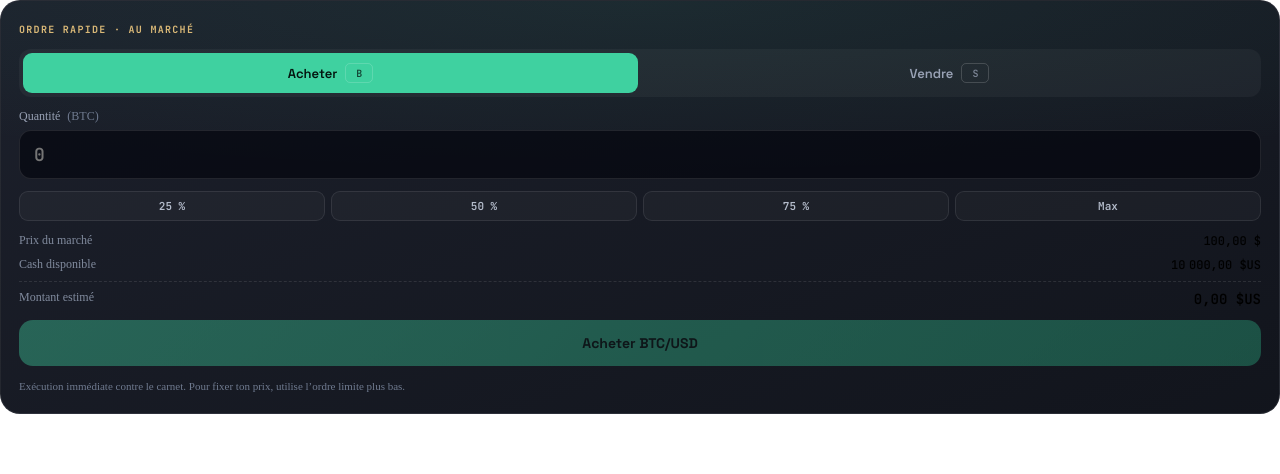
Test case: QuickTrade › affiche le refus du serveur
This screenshot has width=1280, height=474.
Type "1" into the number field. click: (640, 154)
box: [19,130,1261,179]
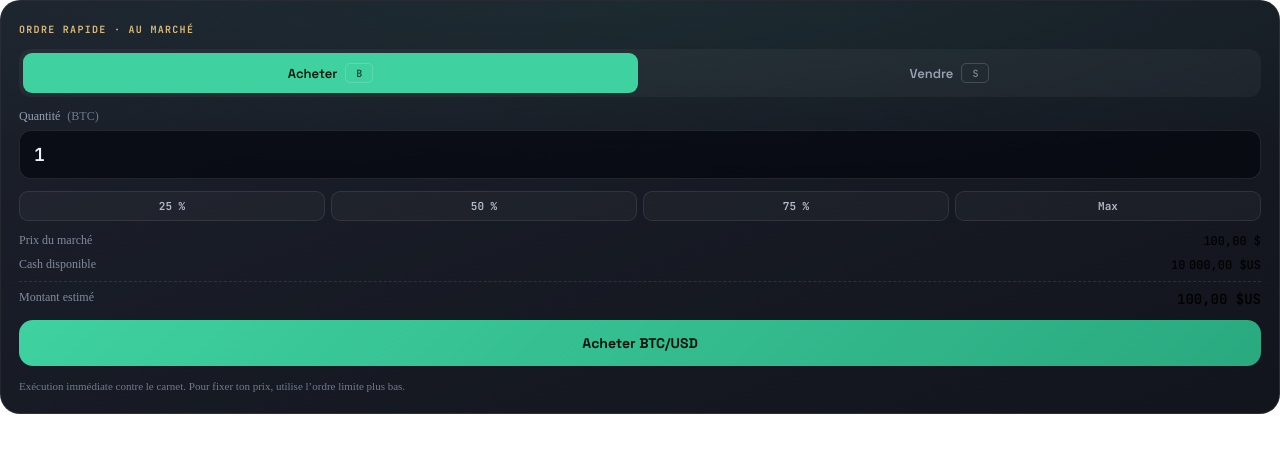
Click the button "Acheter BTC/USD". click: (640, 343)
box: [19,320,1261,366]
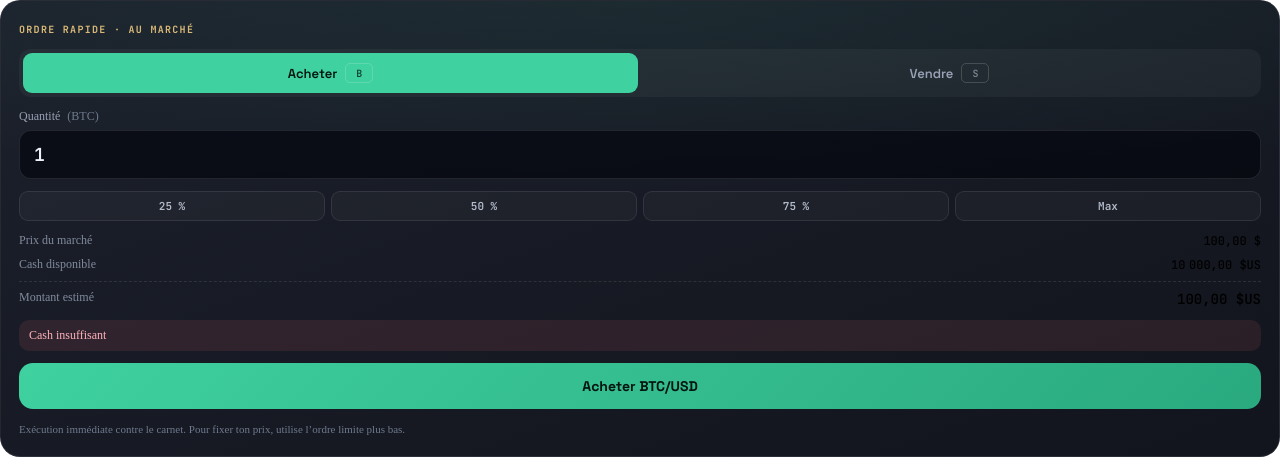
Check: the text "Cash insuffisant" is shown, box [19,320,1261,351]
